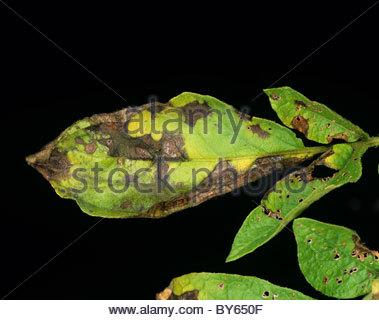Potato leaf late blight: (22, 90, 325, 223), (261, 82, 373, 152), (287, 212, 379, 296)
